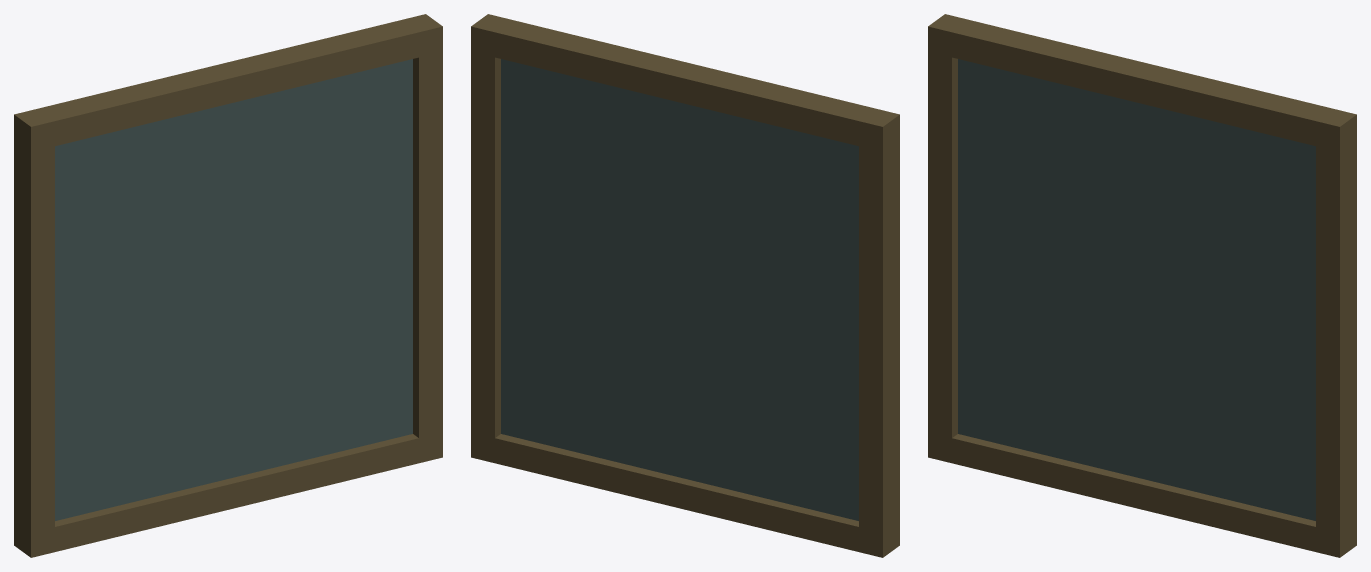
The model's file is GlassPanel.fbx.
3 views of the same model, side by side, from view 1: azimuth 30°, elevation 25°; view 2: azimuth 150°, elevation 25°; view 3: azimuth 330°, elevation 25° (orthographic).
Parts seen in each view (by area): view 1: GlassGeo, Frame_geo; view 2: GlassGeo, Frame_geo; view 3: GlassGeo, Frame_geo.
Part boxes in pixels (x1=…): GlassGeo: x1=55, y1=59, x2=412, y2=520; Frame_geo: x1=14, y1=14, x2=442, y2=557; GlassGeo: x1=501, y1=59, x2=858, y2=520; Frame_geo: x1=471, y1=14, x2=899, y2=557; GlassGeo: x1=958, y1=59, x2=1315, y2=520; Frame_geo: x1=928, y1=14, x2=1356, y2=557.
Bounding box in the file's own units: 4 × 4 × 0.2873.
